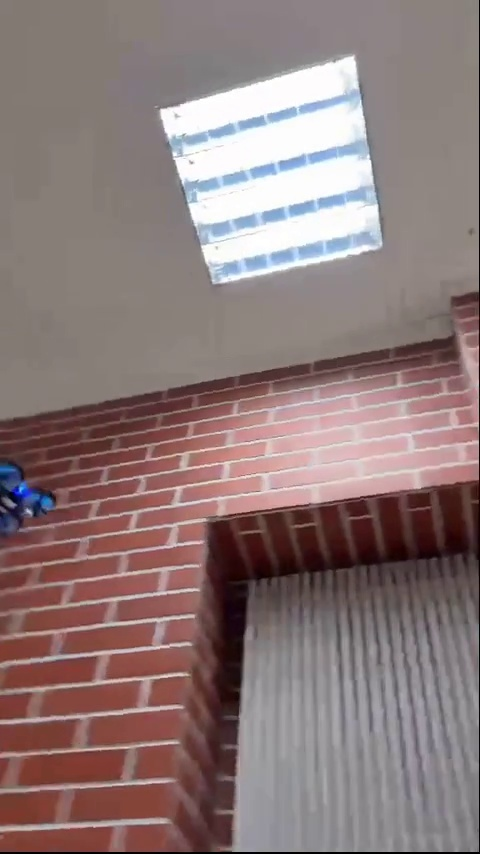drone: (0, 454, 60, 545)
